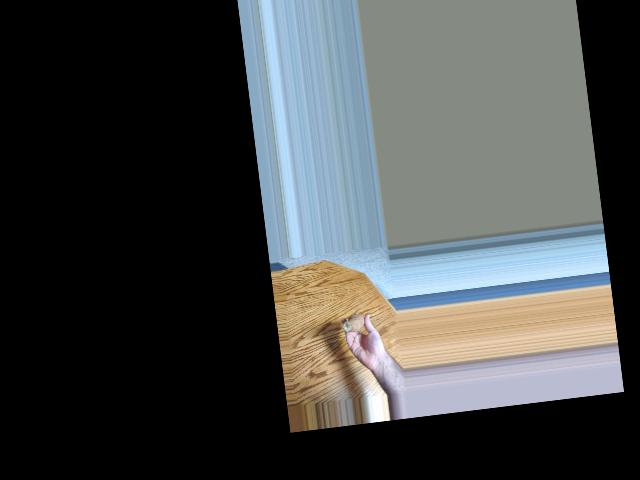sweet_potato: (340, 305, 368, 332)
